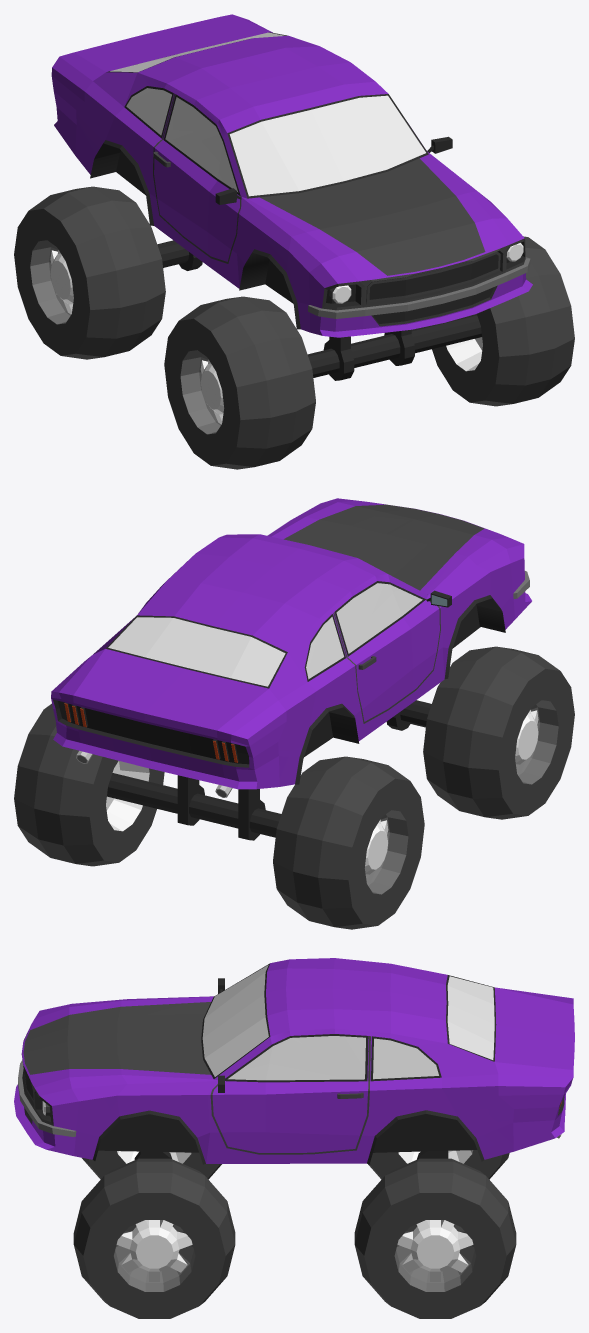
Rendered from Monster Truck_5.fbx.
The picture shows the model from 3 angles, top to bottom: view 1: azimuth 30°, elevation 25°; view 2: azimuth 150°, elevation 25°; view 3: azimuth 270°, elevation 25°; orthographic projection. The views are drawn at different scales.
Visible parts, largest first — view 1: Monster Truck_5 Lod_0, Monster Truck_5 FR Tire, Monster Truck_5 BR Tire, Monster Truck_5 FL Tire, Monster Truck_5 R Door; view 2: Monster Truck_5 Lod_0, Monster Truck_5 BR Tire, Monster Truck_5 FR Tire, Monster Truck_5 BL Tire, Monster Truck_5 R Door; view 3: Monster Truck_5 Lod_0, Monster Truck_5 BL Tire, Monster Truck_5 FL Tire, Monster Truck_5 L Door, Monster Truck_5 BR Tire, Monster Truck_5 FR Tire.
Boxes of the visible parts, left/top/right/bottom form: Monster Truck_5 Lod_0: left=51, top=14, right=532, bottom=380; Monster Truck_5 FR Tire: left=164, top=296, right=315, bottom=469; Monster Truck_5 BR Tire: left=14, top=186, right=165, bottom=359; Monster Truck_5 FL Tire: left=432, top=236, right=574, bottom=406; Monster Truck_5 R Door: left=153, top=93, right=241, bottom=263; Monster Truck_5 Lod_0: left=51, top=498, right=531, bottom=840; Monster Truck_5 BR Tire: left=273, top=756, right=424, bottom=929; Monster Truck_5 FR Tire: left=423, top=646, right=574, bottom=819; Monster Truck_5 BL Tire: left=14, top=703, right=164, bottom=866; Monster Truck_5 R Door: left=333, top=581, right=451, bottom=723; Monster Truck_5 Lod_0: left=14, top=958, right=574, bottom=1164; Monster Truck_5 BL Tire: left=354, top=1158, right=516, bottom=1318; Monster Truck_5 FL Tire: left=73, top=1158, right=235, bottom=1318; Monster Truck_5 L Door: left=210, top=1034, right=370, bottom=1154; Monster Truck_5 BR Tire: left=368, top=1150, right=509, bottom=1179; Monster Truck_5 FR Tire: left=82, top=1150, right=221, bottom=1179.
Size of what is drawn, in the model's own units: 2.95 by 2.37 by 4.58.
